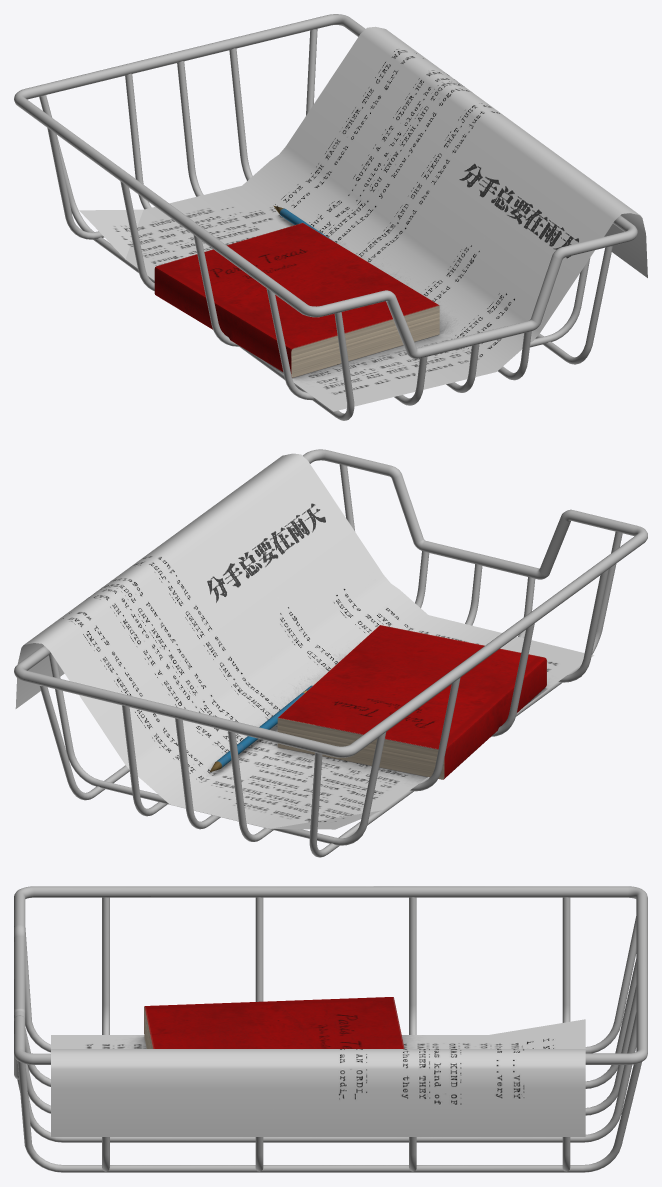
3 renders of one model, top to bottom at view 1: azimuth 30°, elevation 25°; view 2: azimuth 150°, elevation 25°; view 3: azimuth 270°, elevation 25°, orthographic. The views are drawn at different scales.
Visible parts, largest first — view 1: jygky__0; view 2: jygky__0; view 3: jygky__0.
Boxes of the visible parts, x1,y1,x2,y2 form: jygky__0: (14,14,647,420); jygky__0: (14,449,647,857); jygky__0: (14,886,647,1172).
Bounding box in the file's own units: 0.2609 × 0.0989 × 0.3823.
Materials: 1 (1 with a texture image).
